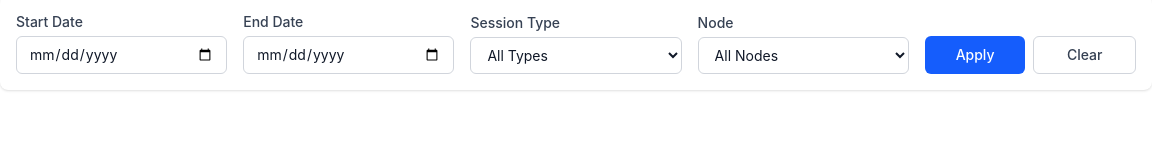
Scenario: SessionFilter › clear button › resets all filter fields to empty
# Set all filters
In the date field labelled "Start Date": (122, 55) x1=16 y1=36 x2=227 y2=74, type "2024-01-01"
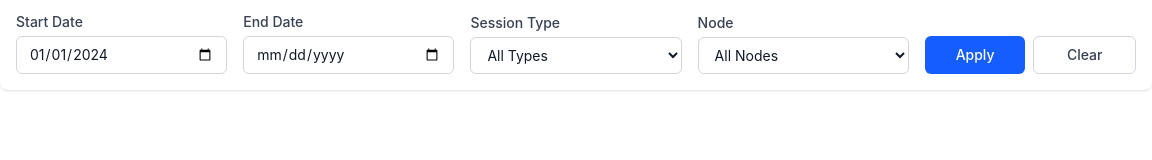
In the date field labelled "End Date": (349, 55) x1=243 y1=36 x2=454 y2=74, type "2024-12-31"
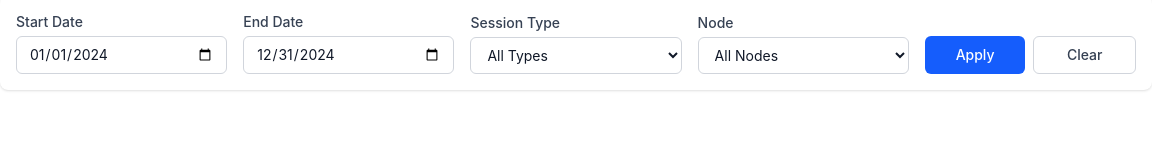
Select "Owner" in the dropdown labelled "Session Type": (576, 56) x1=470 y1=37 x2=682 y2=74
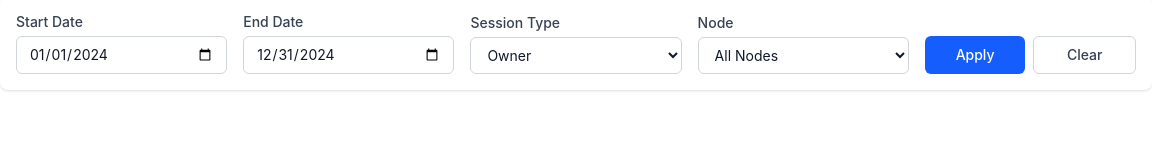
Select "Charger Alpha" in the dropdown labelled "Node": (803, 56) x1=698 y1=37 x2=909 y2=74
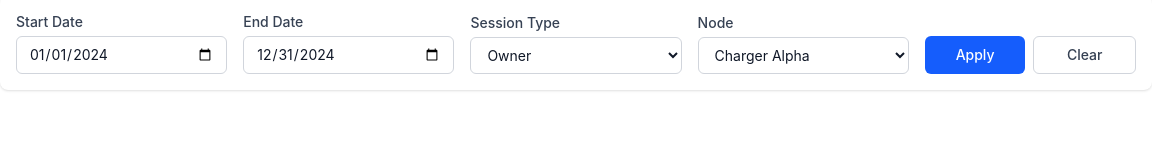
# Click clear
Click the button "Clear": (1085, 55) x1=1033 y1=36 x2=1136 y2=74
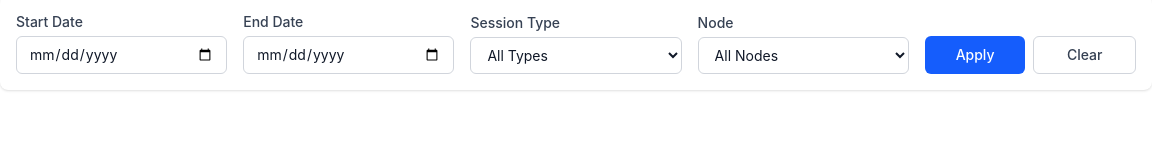
Expected: the date field labelled "Start Date" is empty, x1=16 y1=36 x2=227 y2=74
Expected: the date field labelled "End Date" is empty, x1=243 y1=36 x2=454 y2=74
